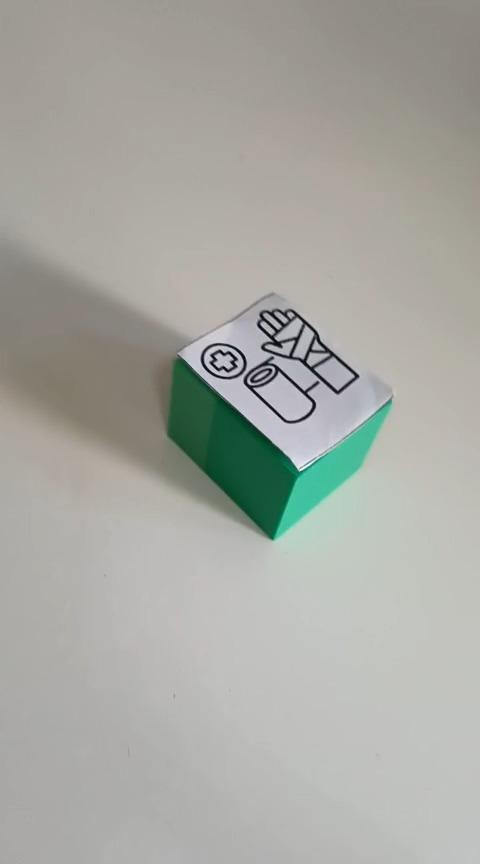Bandages: (165, 290, 394, 540)
